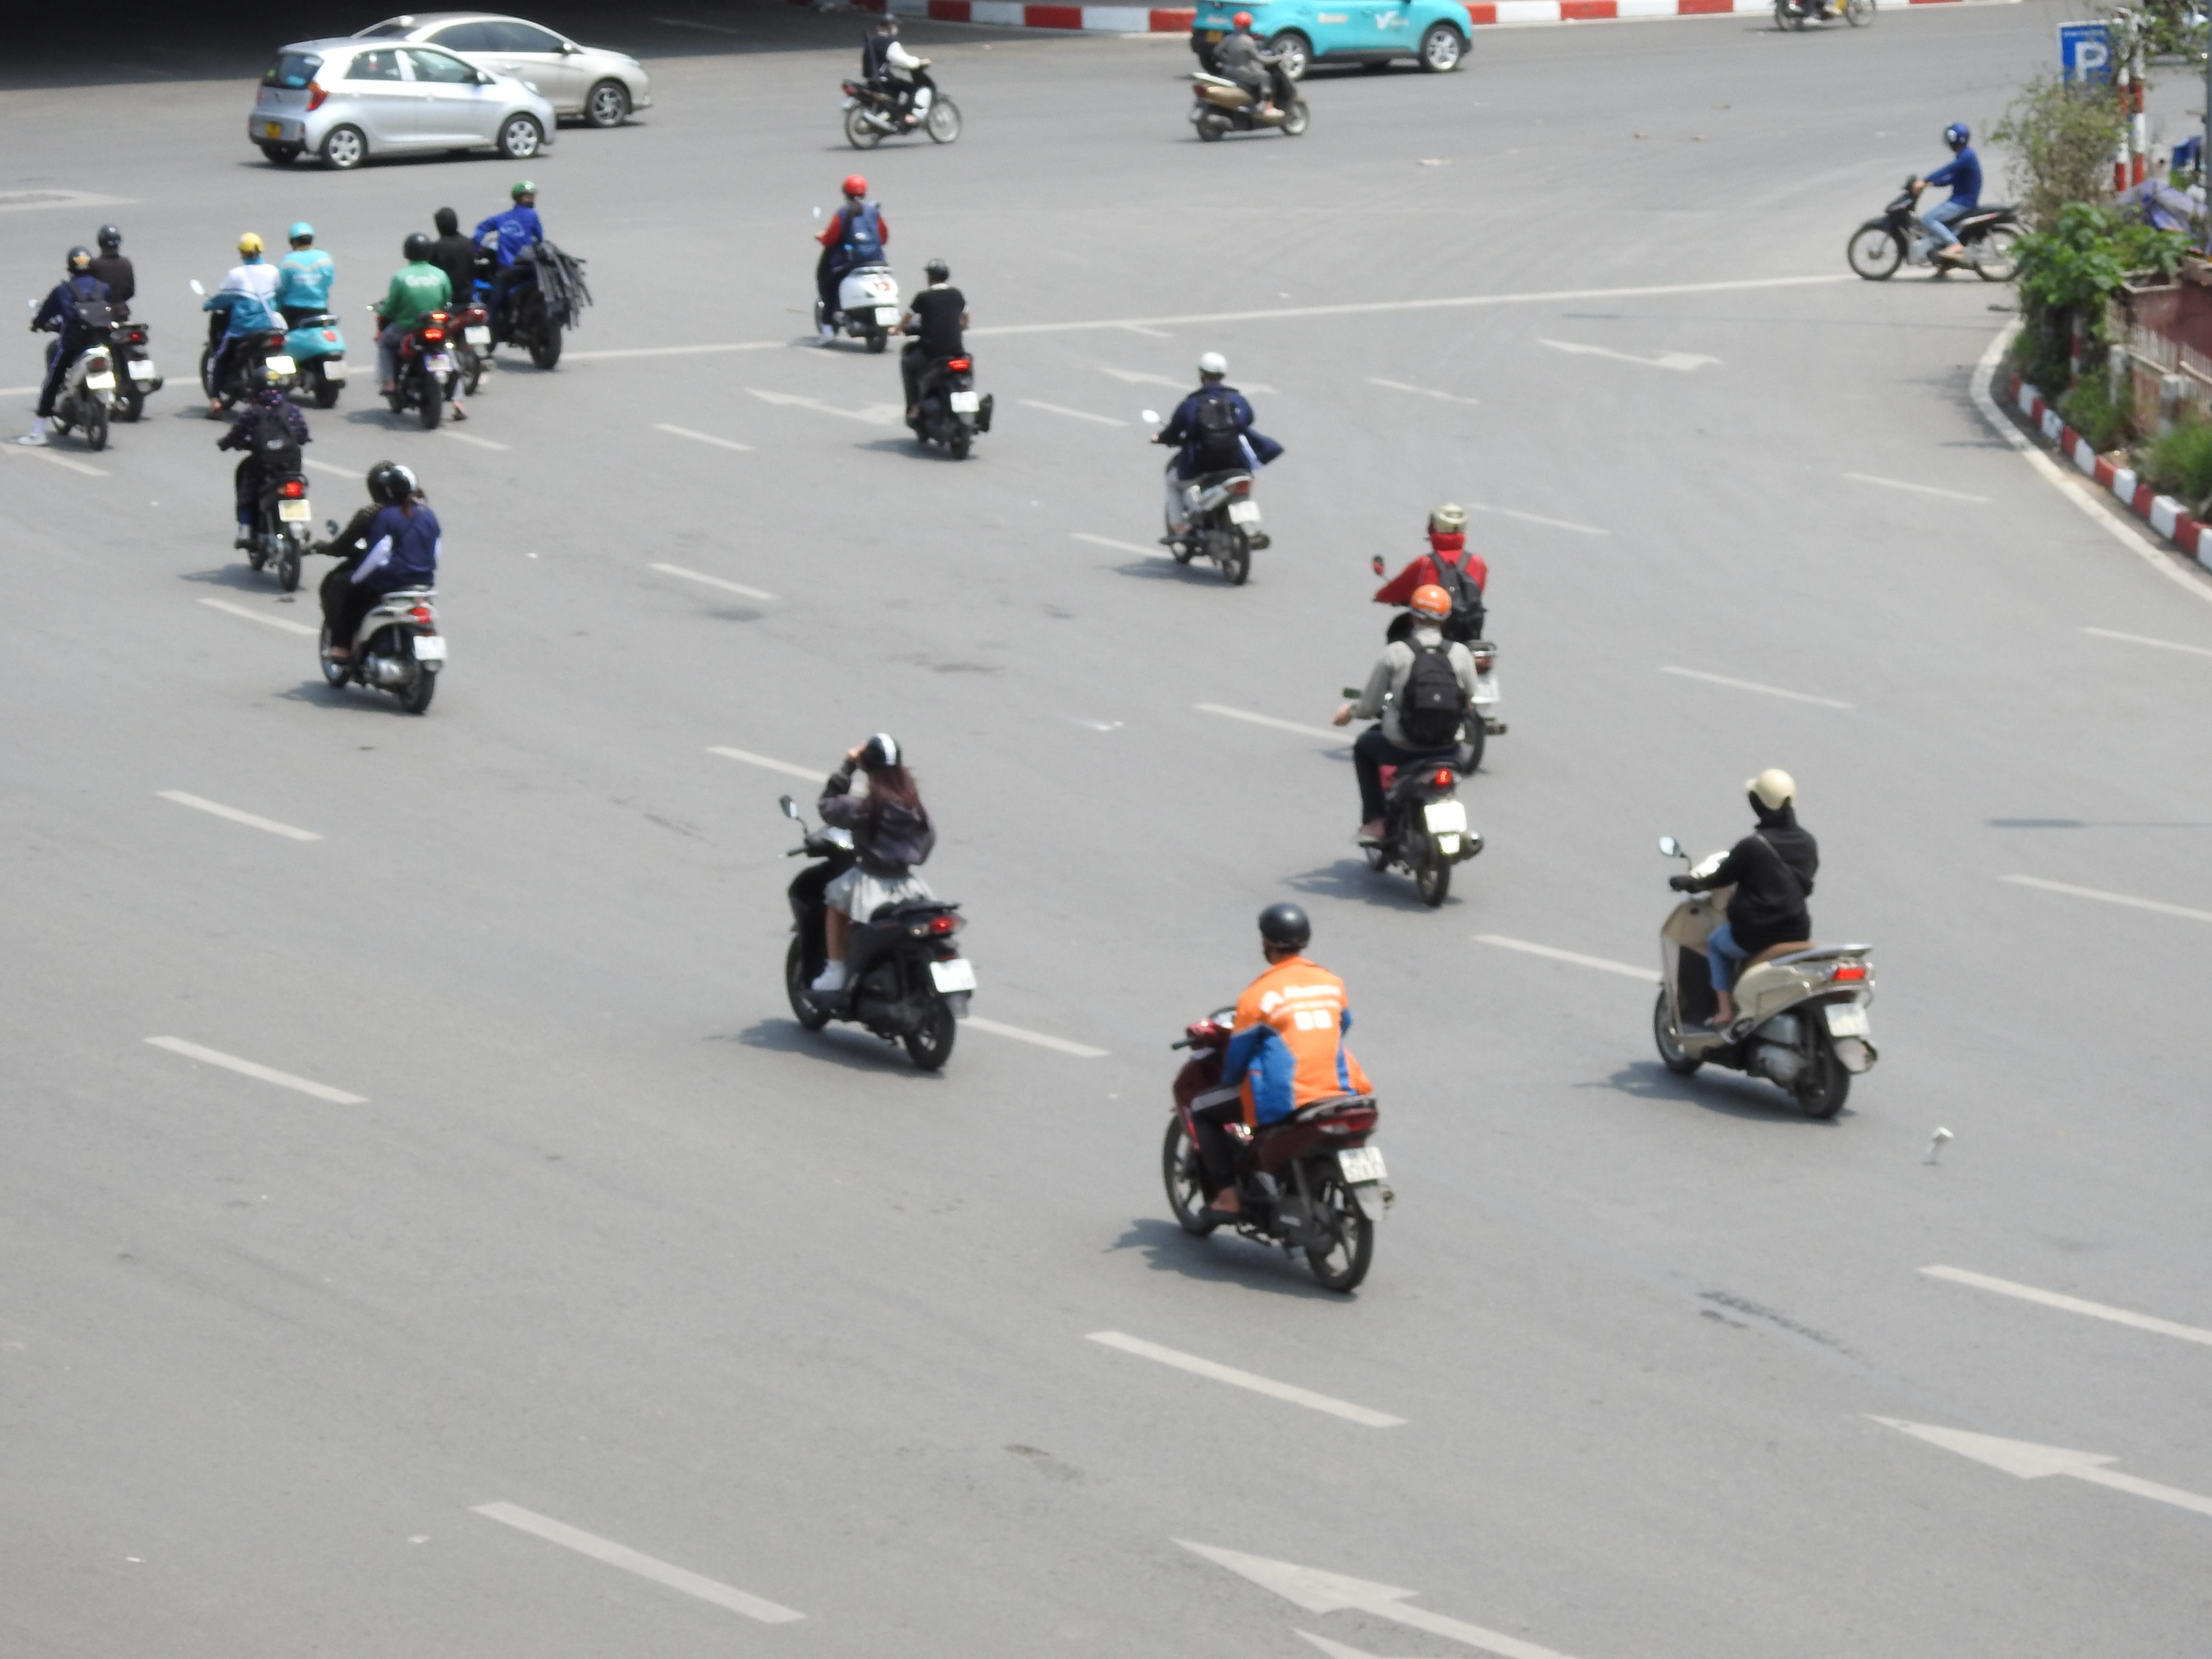BSV: (1338, 1147, 1388, 1185), (1822, 1004, 1869, 1040)
car: (246, 37, 556, 171), (352, 14, 653, 129), (1186, 0, 1475, 78)
motorbike: (1160, 901, 1395, 1298), (1651, 769, 1879, 1122), (779, 732, 977, 1077), (1339, 596, 1484, 911), (1371, 502, 1503, 774), (315, 460, 448, 718), (1151, 352, 1278, 587), (1848, 124, 2026, 284), (219, 359, 315, 599), (472, 181, 590, 373), (186, 230, 294, 418), (897, 258, 993, 464), (28, 244, 122, 453), (373, 232, 470, 432), (838, 14, 961, 150), (812, 174, 902, 355), (1186, 9, 1310, 141), (273, 221, 354, 410), (87, 223, 162, 422), (427, 204, 495, 392), (1770, 0, 1876, 30)
